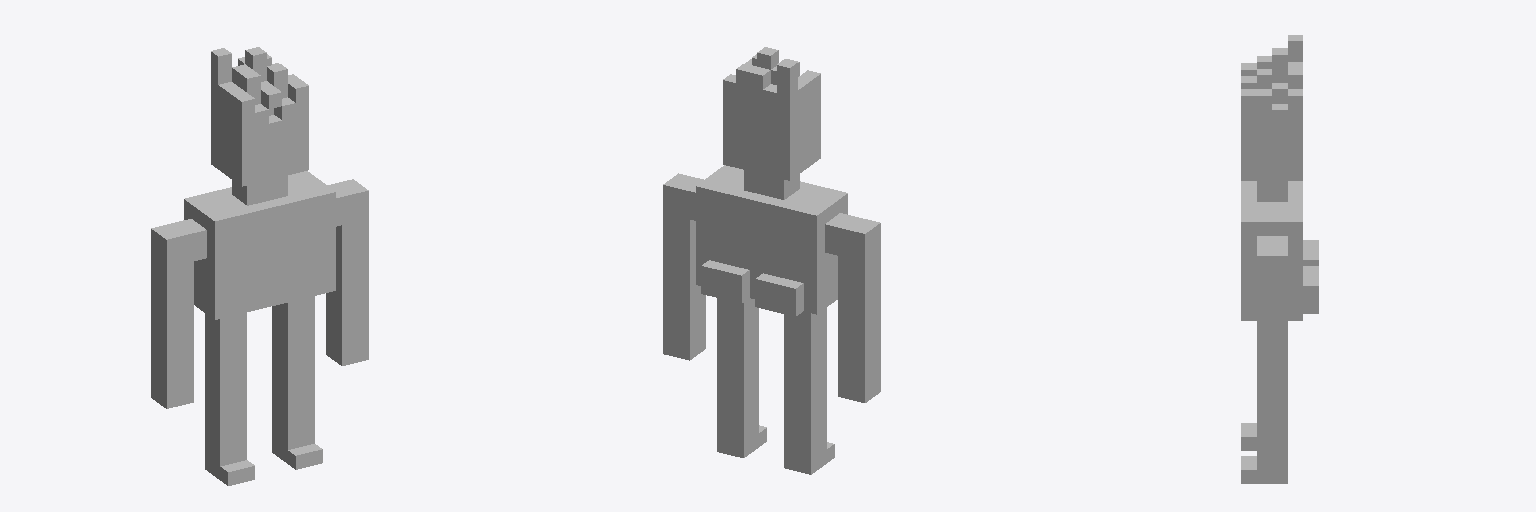
Rendered from sheeeeeeeeesh.obj.
3 renders of one model, left to right at view 1: azimuth 30°, elevation 25°; view 2: azimuth 150°, elevation 25°; view 3: azimuth 270°, elevation 25°, orthographic.
Visible parts, largest first — view 1: object 1; view 2: object 1; view 3: object 1.
Part boxes in pixels (left/top/right/bottom): object 1: left=151, top=47, right=368, bottom=485; object 1: left=663, top=47, right=880, bottom=474; object 1: left=1241, top=35, right=1318, bottom=483.
Bounding box in the file's own units: 1.5 × 2.9 × 0.5.